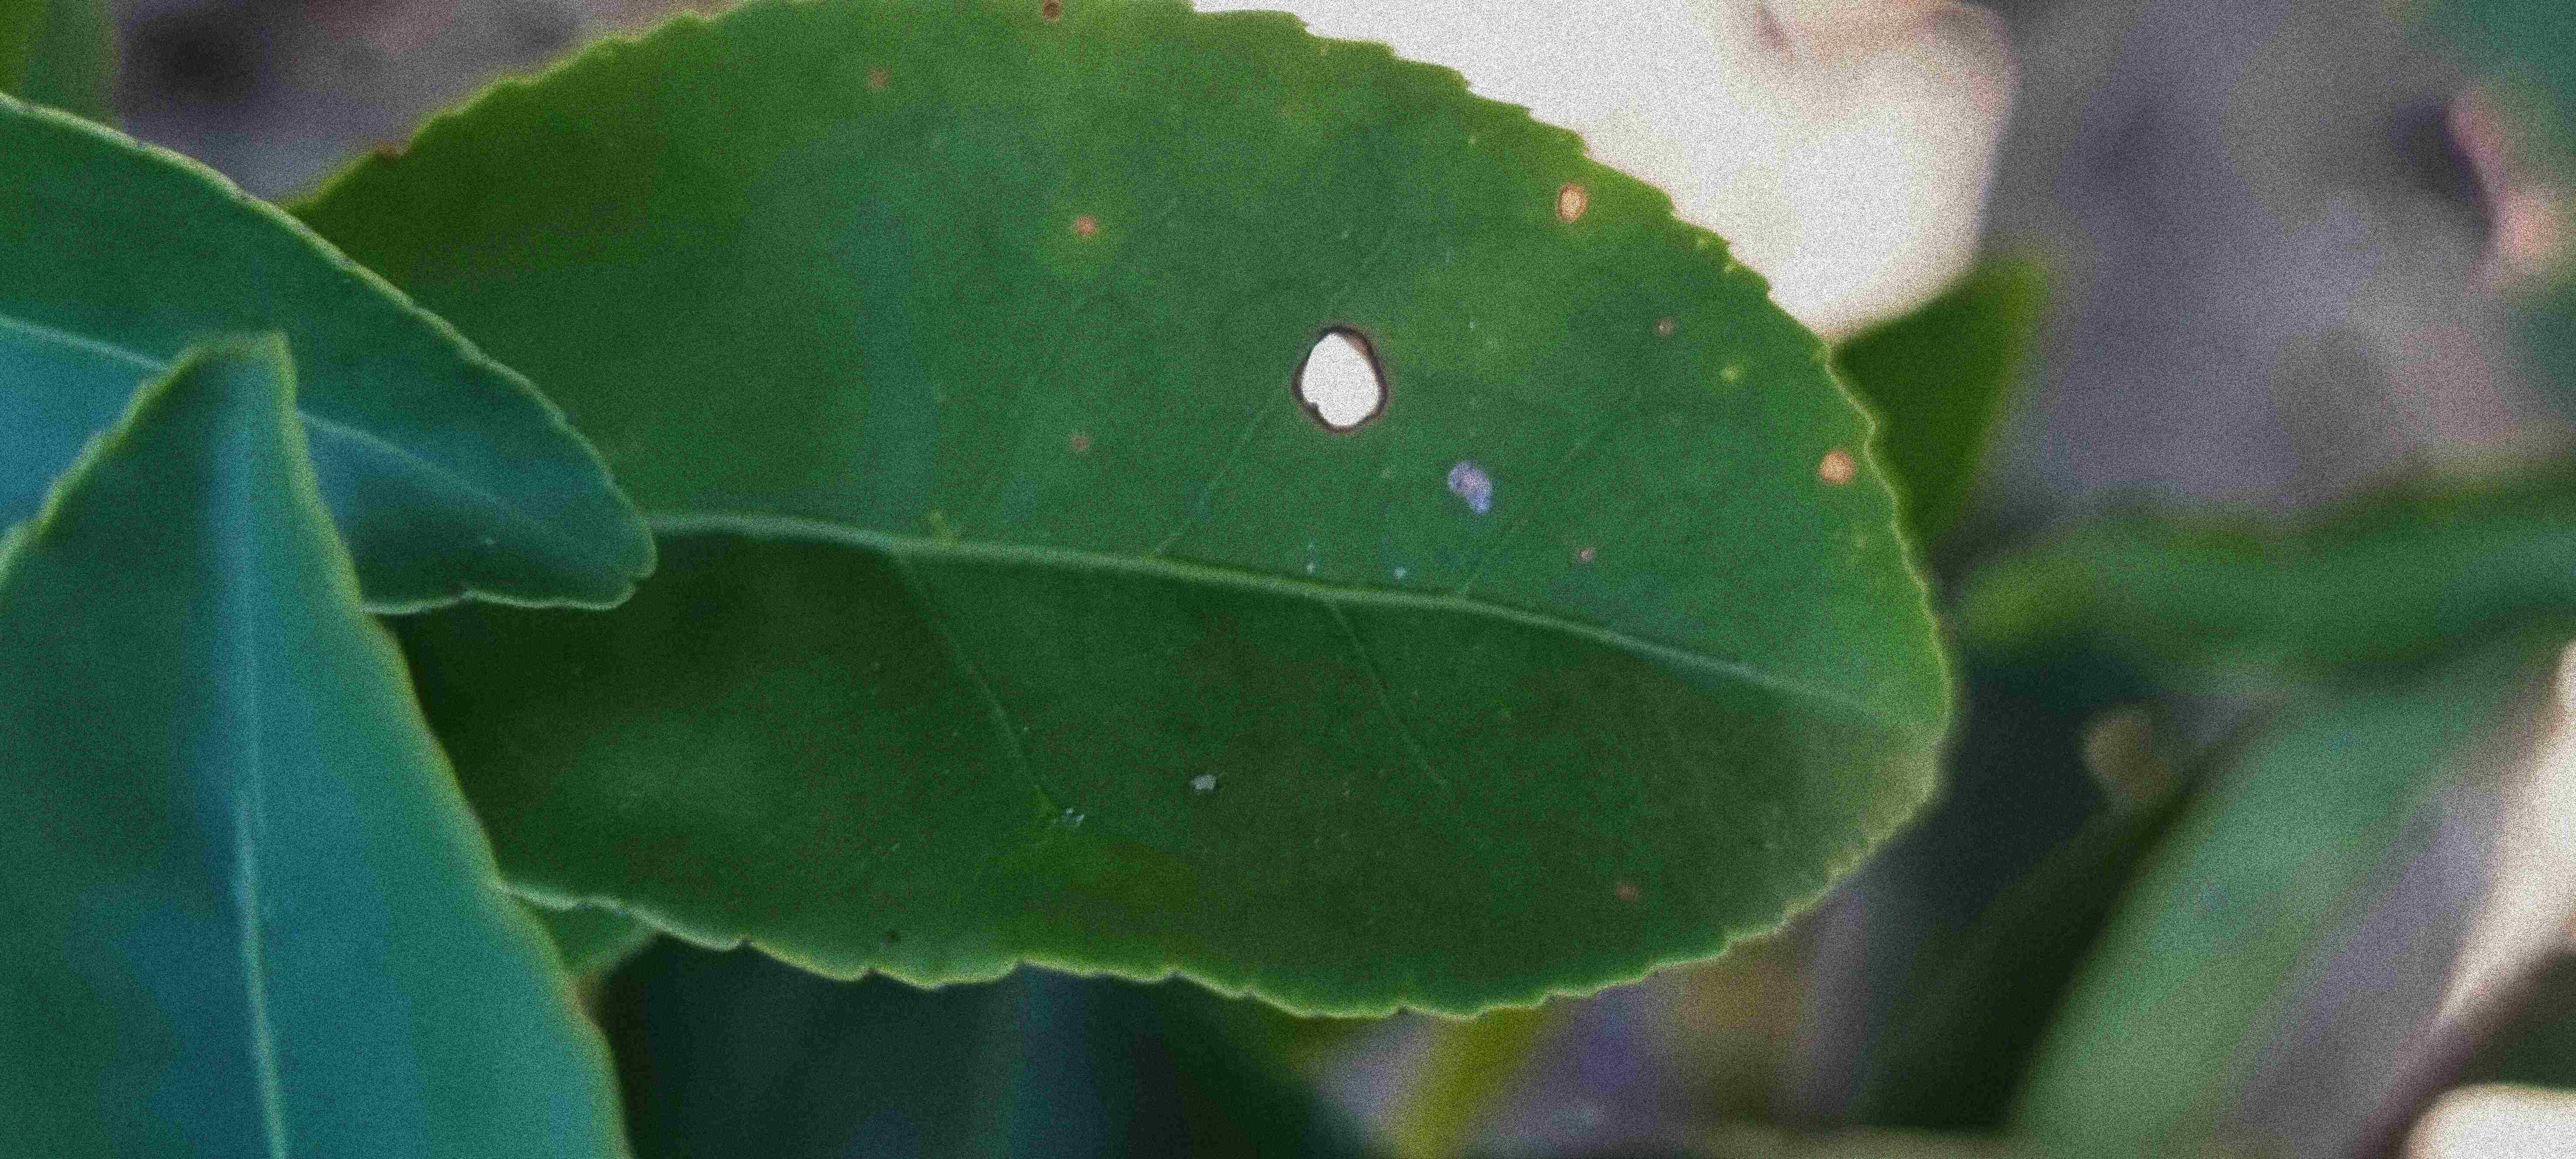chihuo_low: (294, 0, 1952, 1026)
